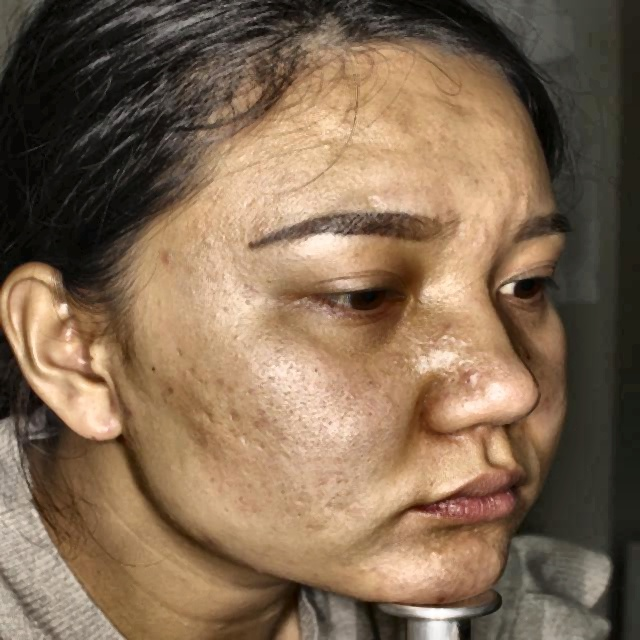comedone: (157, 248, 183, 276)
